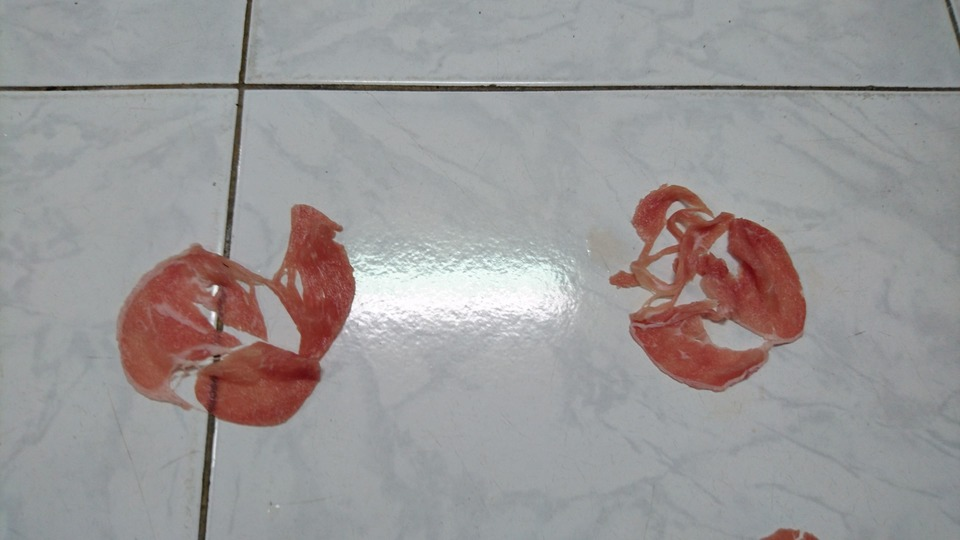restructured meat: (116, 206, 354, 431), (618, 178, 811, 391)
